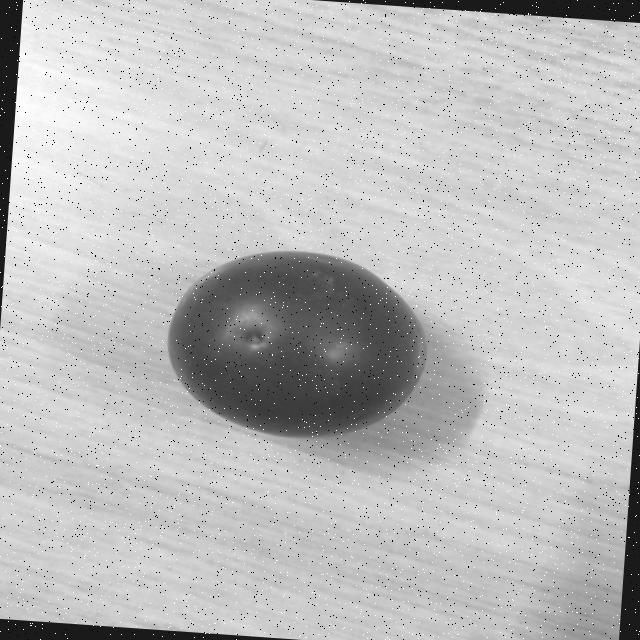Tomato: (151, 235, 440, 450)
